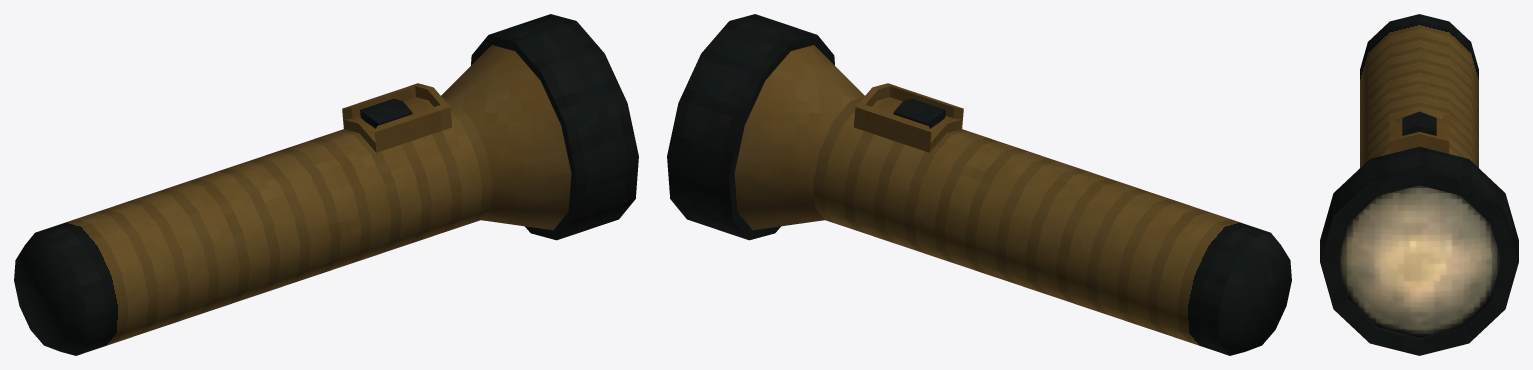
Rendered from flashlight_mp_1.glb.
3 views of the same model, side by side, from view 1: azimuth 30°, elevation 25°; view 2: azimuth 150°, elevation 25°; view 3: azimuth 270°, elevation 25° (orthographic). The views are drawn at different scales.
Parts seen in each view (by area): view 1: flashlight_mp_1; view 2: flashlight_mp_1; view 3: flashlight_mp_1.
Boxes of the visible parts, x1,y1,x2,y2 form: flashlight_mp_1: (14,14,638,355); flashlight_mp_1: (667,14,1291,355); flashlight_mp_1: (1320,14,1518,355).
Bounding box in the file's own units: 0.2334 × 0.0814 × 0.078.
1 material, 1 textured.
